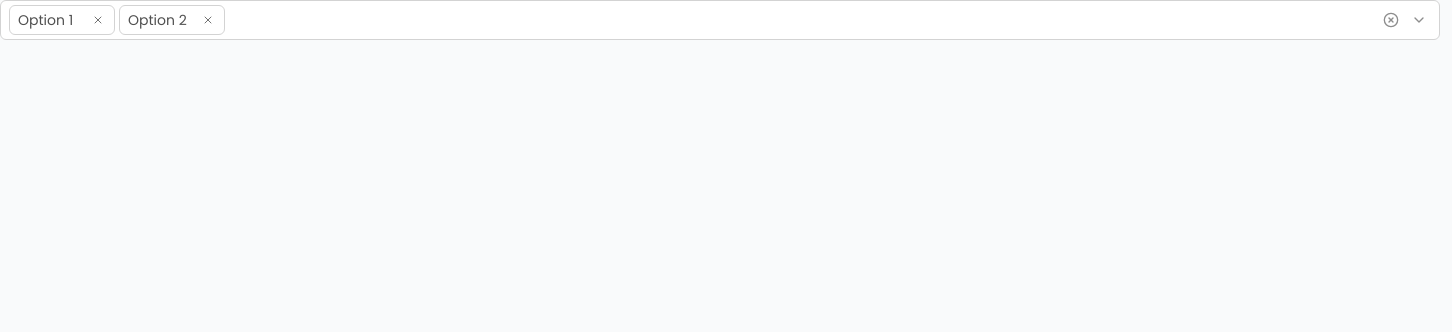
Test: MultiSelect › Max Selections › disables options when maxSelections is reached
Click the element showing "Option 1 Option 2" at (720, 20), box left=0, top=0, right=1440, bottom=40
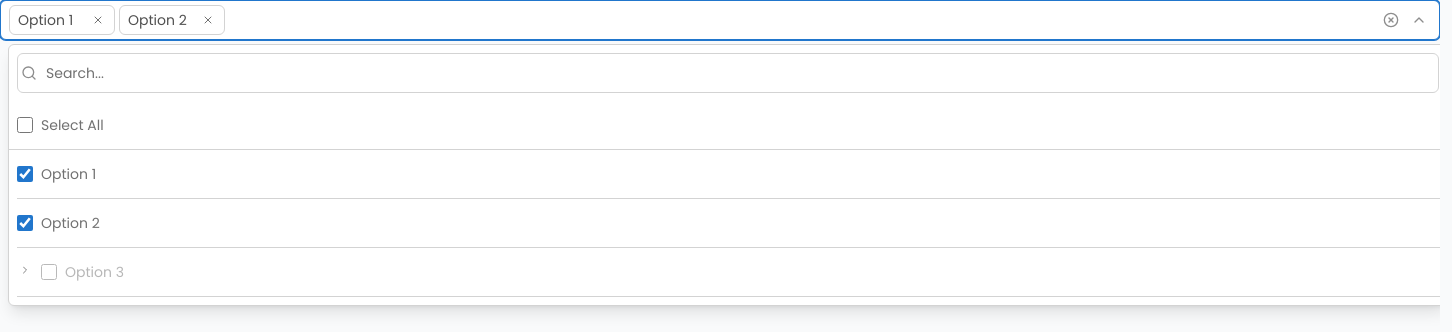
Check: the checkbox with id "checkbox-option-3" is shown, box left=41, top=264, right=57, bottom=280
